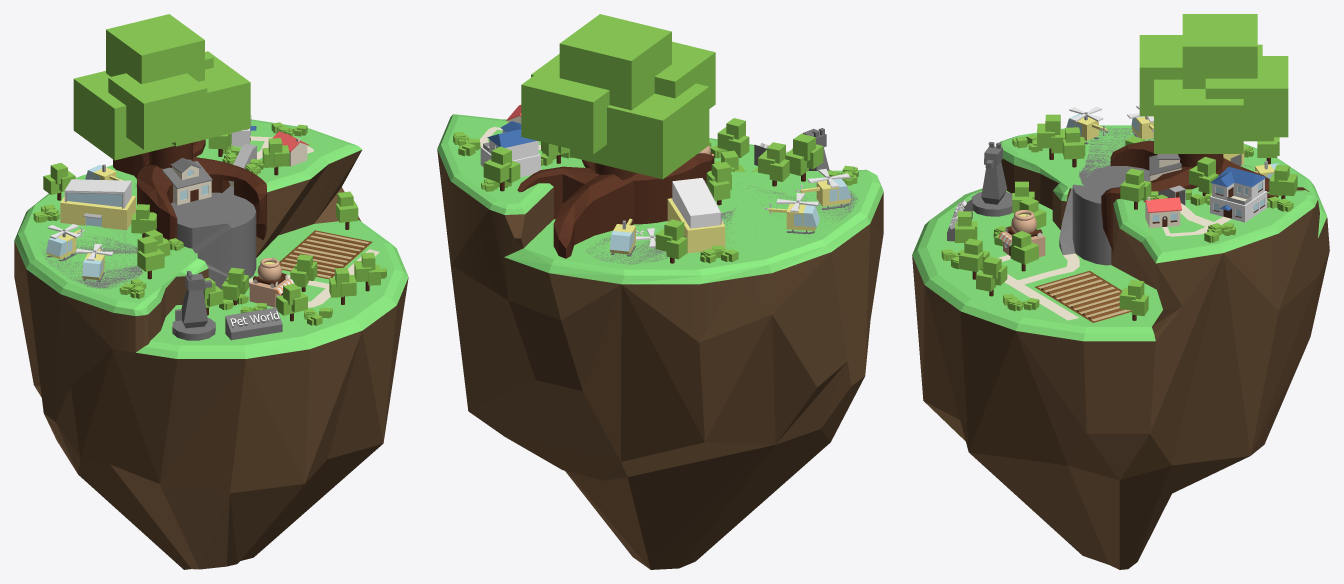
File: PetWorld.fbx
3 renders of one model, left to right at view 1: azimuth 30°, elevation 25°; view 2: azimuth 150°, elevation 25°; view 3: azimuth 270°, elevation 25°, orthographic. The views are drawn at different scales.
Visible parts, largest first — view 1: Group1, Group7, Group4, Group6, Group25, Group5, Group61, Group84, Group86, Group8, Component_1_1, Group60 (+14 smaller); view 2: Group1, Group6, Group4, Group3, Group25, Group7, Group15, Component_1_1, Component_1_2, Group30, Group18, Group26 (+4 smaller); view 3: Group1, Group5, Group4, Group3, Group7, Group15, Group60, Group61, Group84, Group46, Group30, Component_1_2 (+11 smaller).
Boxes of the visible parts, x1,y1,x2,y2 form: Group1: [14, 119, 408, 569]; Group7: [108, 73, 207, 149]; Group4: [106, 14, 204, 84]; Group6: [73, 71, 174, 160]; Group25: [60, 179, 135, 230]; Group5: [171, 51, 250, 146]; Group61: [294, 230, 372, 260]; Group84: [175, 271, 211, 328]; Group86: [225, 307, 282, 340]; Group8: [162, 161, 212, 205]; Component_1_1: [46, 224, 84, 261]; Group60: [279, 249, 351, 279]; Group1: [437, 114, 883, 569]; Group6: [570, 83, 709, 179]; Group4: [559, 14, 671, 110]; Group3: [521, 57, 609, 154]; Group25: [667, 178, 725, 253]; Group7: [654, 41, 715, 108]; Group15: [480, 121, 540, 177]; Component_1_1: [764, 193, 819, 234]; Component_1_2: [796, 169, 851, 209]; Group30: [785, 133, 823, 175]; Group18: [483, 146, 520, 183]; Group26: [655, 219, 687, 259]; Group1: [912, 125, 1329, 569]; Group5: [1154, 79, 1243, 153]; Group4: [1182, 14, 1257, 88]; Group3: [1205, 56, 1288, 137]; Group7: [1139, 35, 1182, 116]; Group15: [1210, 166, 1267, 222]; Group60: [1035, 271, 1118, 304]; Group61: [1064, 289, 1131, 322]; Group84: [981, 141, 1007, 204]; Group46: [1143, 196, 1181, 227]; Group30: [1037, 114, 1064, 153]; Component_1_2: [1066, 106, 1108, 144].
Size of the model in its own units: 7878 by 11212 by 8049.
